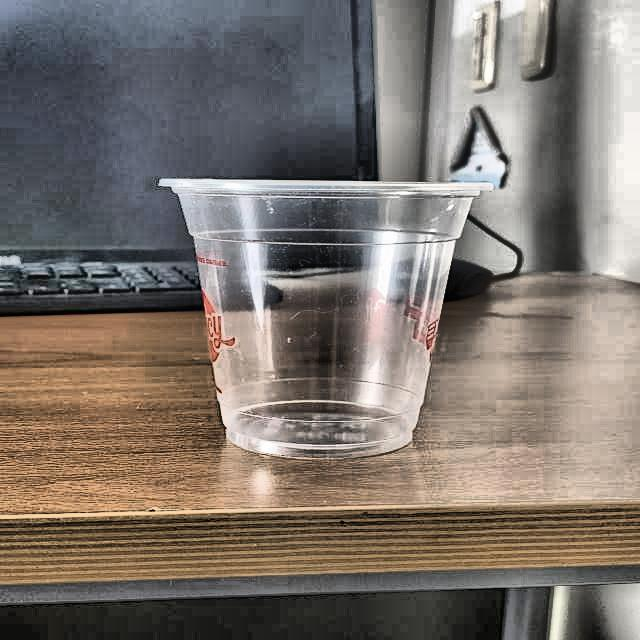plastic cup: (156, 174, 498, 460)
